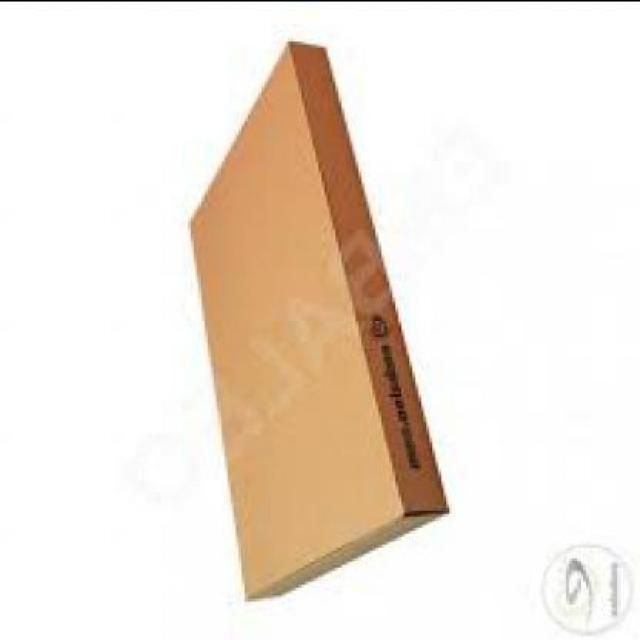box: (177, 36, 458, 616)
